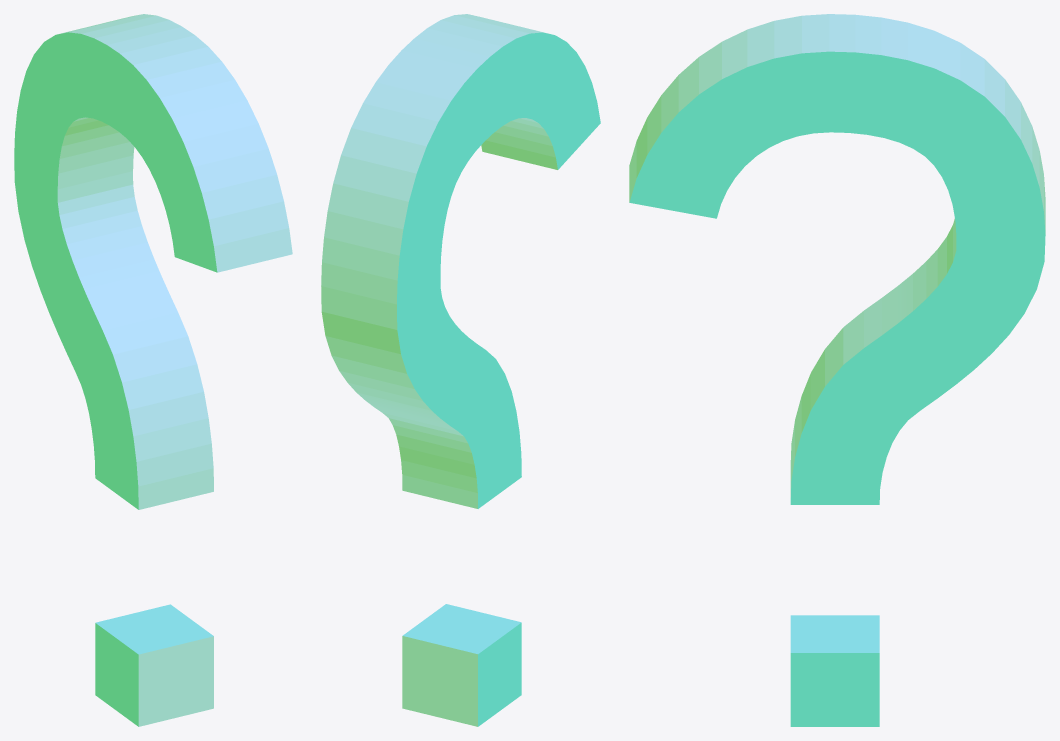
The model's file is Practice Appliance.fbx.
The picture shows the model from 3 angles, left to right: view 1: azimuth 30°, elevation 25°; view 2: azimuth 150°, elevation 25°; view 3: azimuth 270°, elevation 25°; orthographic projection. The views are drawn at different scales.
Parts seen in each view (by area): view 1: Plane; view 2: Plane; view 3: Plane.
Part boxes in pixels (x1,y1,x2,y2): Plane: [14, 14, 292, 726]; Plane: [321, 14, 600, 726]; Plane: [629, 14, 1045, 726].
Size of what is drawn, in the model's own units: 15.98 by 134 by 74.59.
